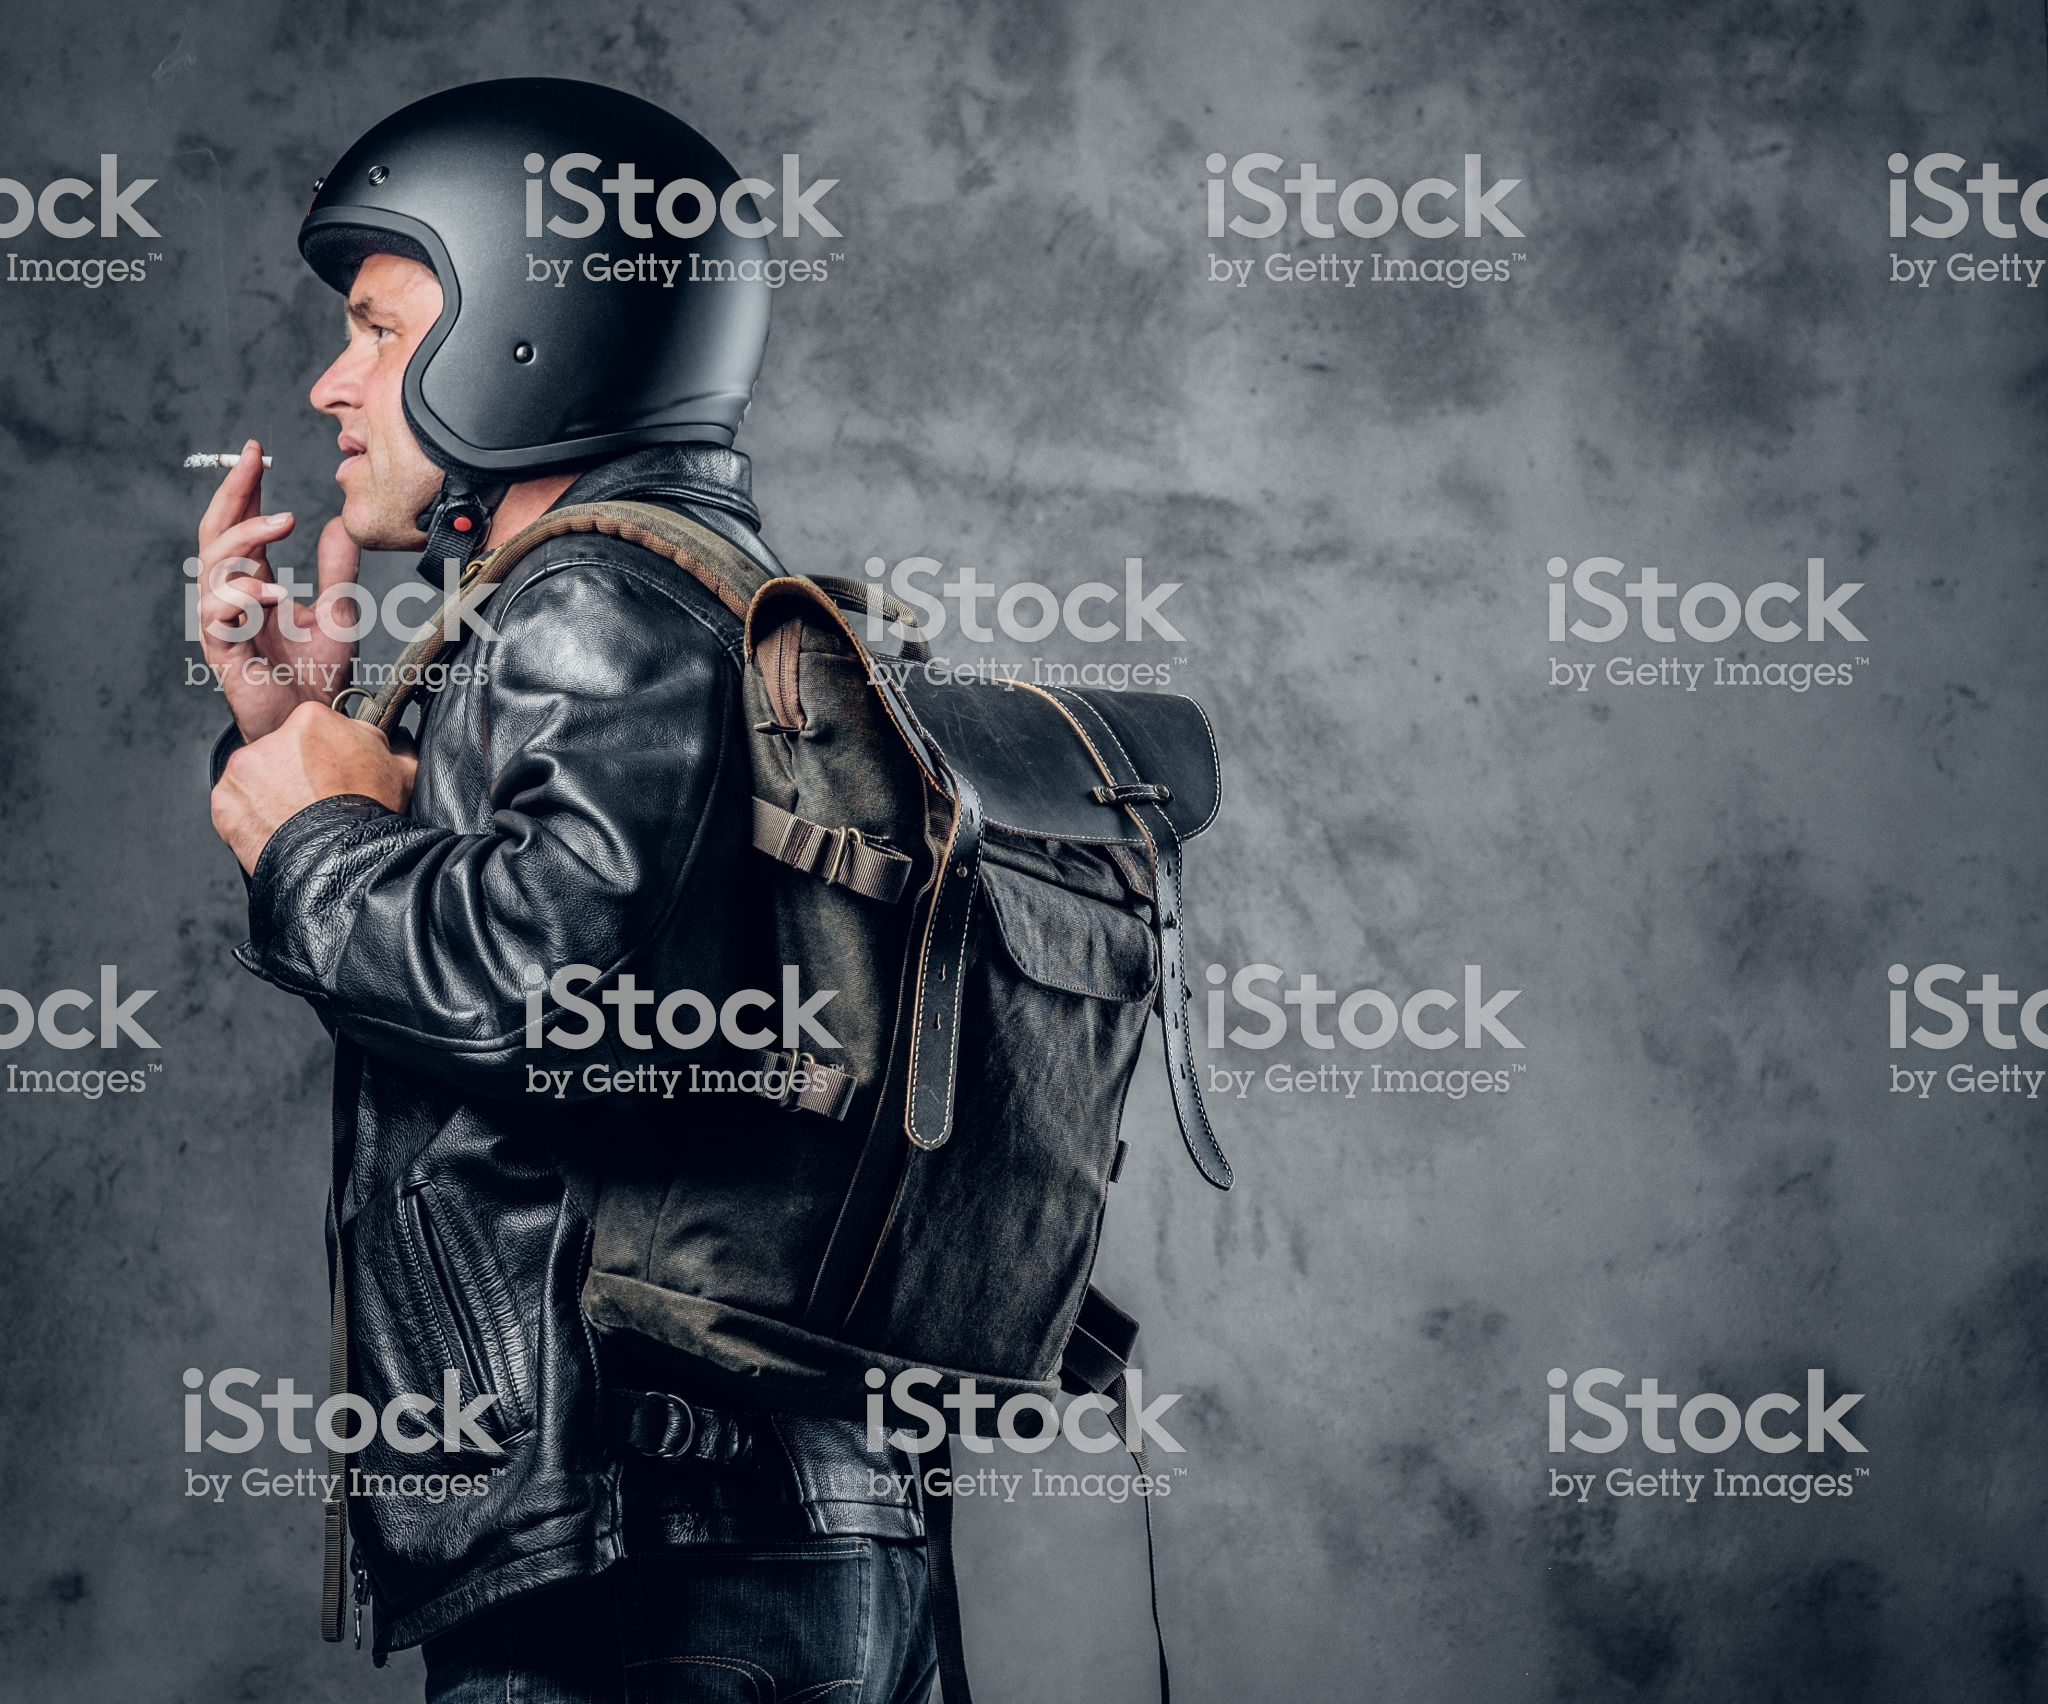helmet: (320, 87, 808, 515)
